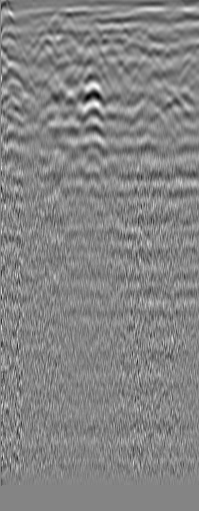오수: (14, 16, 34, 36)
우수: (164, 42, 184, 62)
